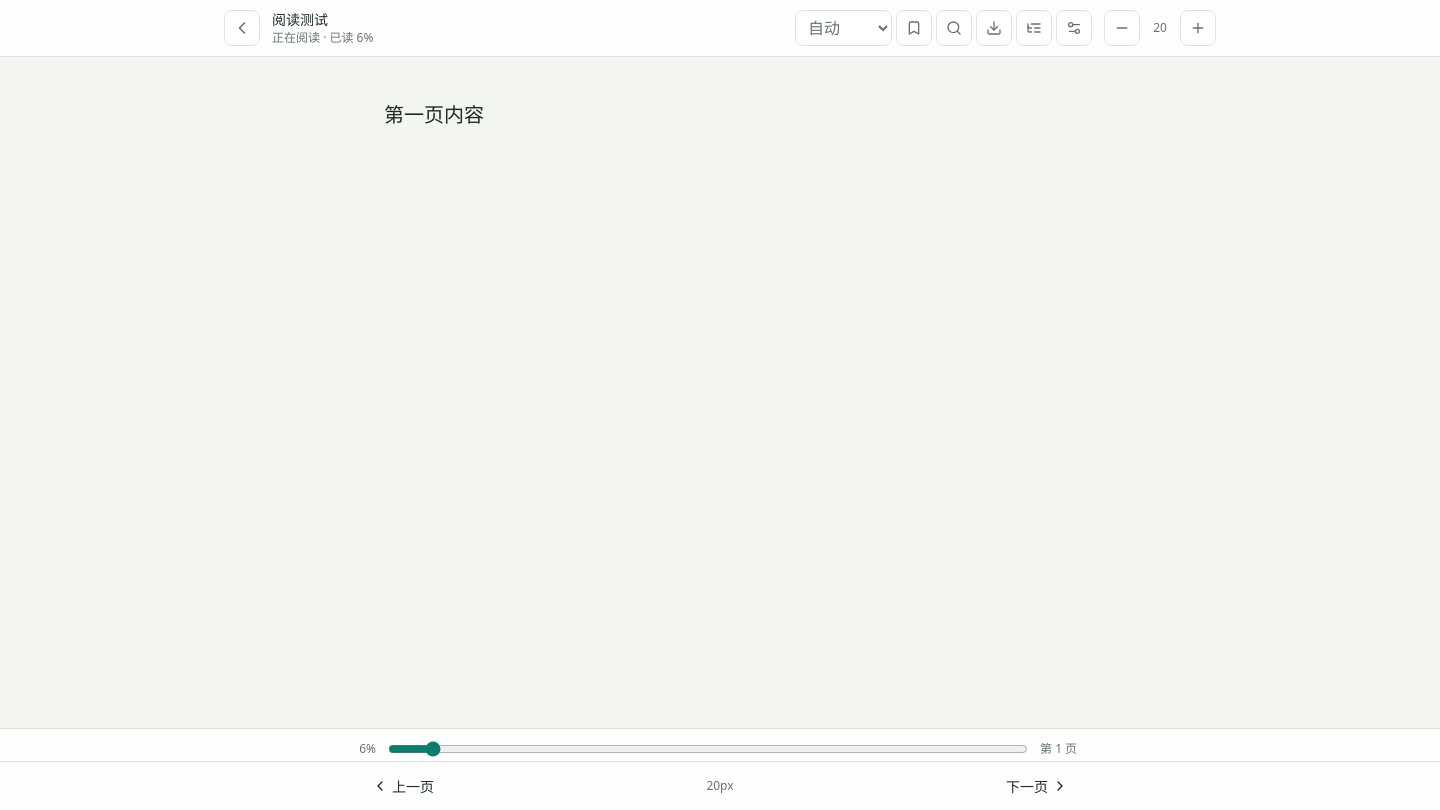
Scenario: Reader › restores progress and saves the next page offset
Expected: the text "第一页内容" is shown, [384,101,484,128]
Expected: the text "正在阅读 · 已读 6%" is shown, [272,29,374,46]
What coordinates should you click on to do the following:
click the button "下一页"
I would click on:
 (1037, 786)
Its box is [994,768,1080,804].
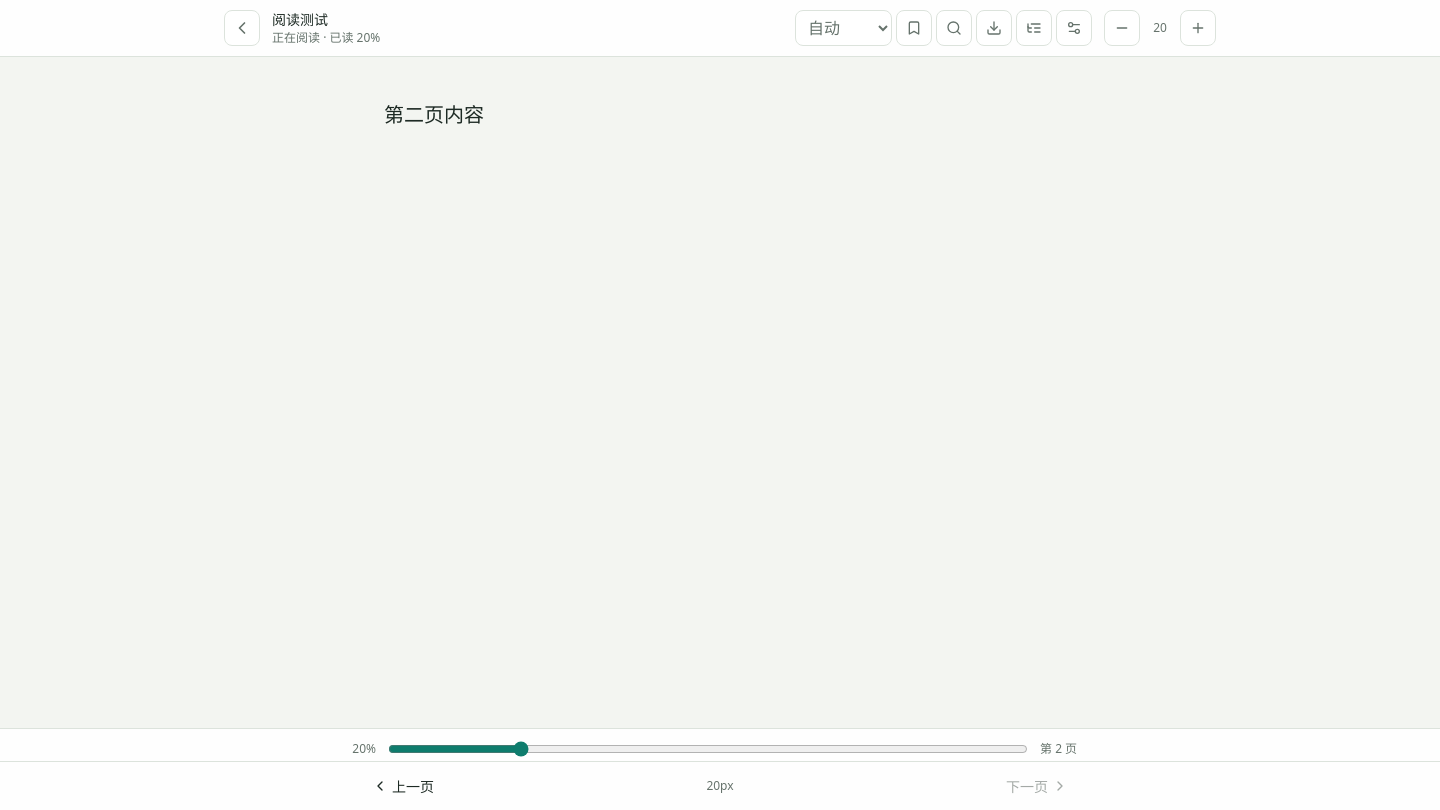
Now the text "第二页内容" is shown, box [384,101,484,128]
